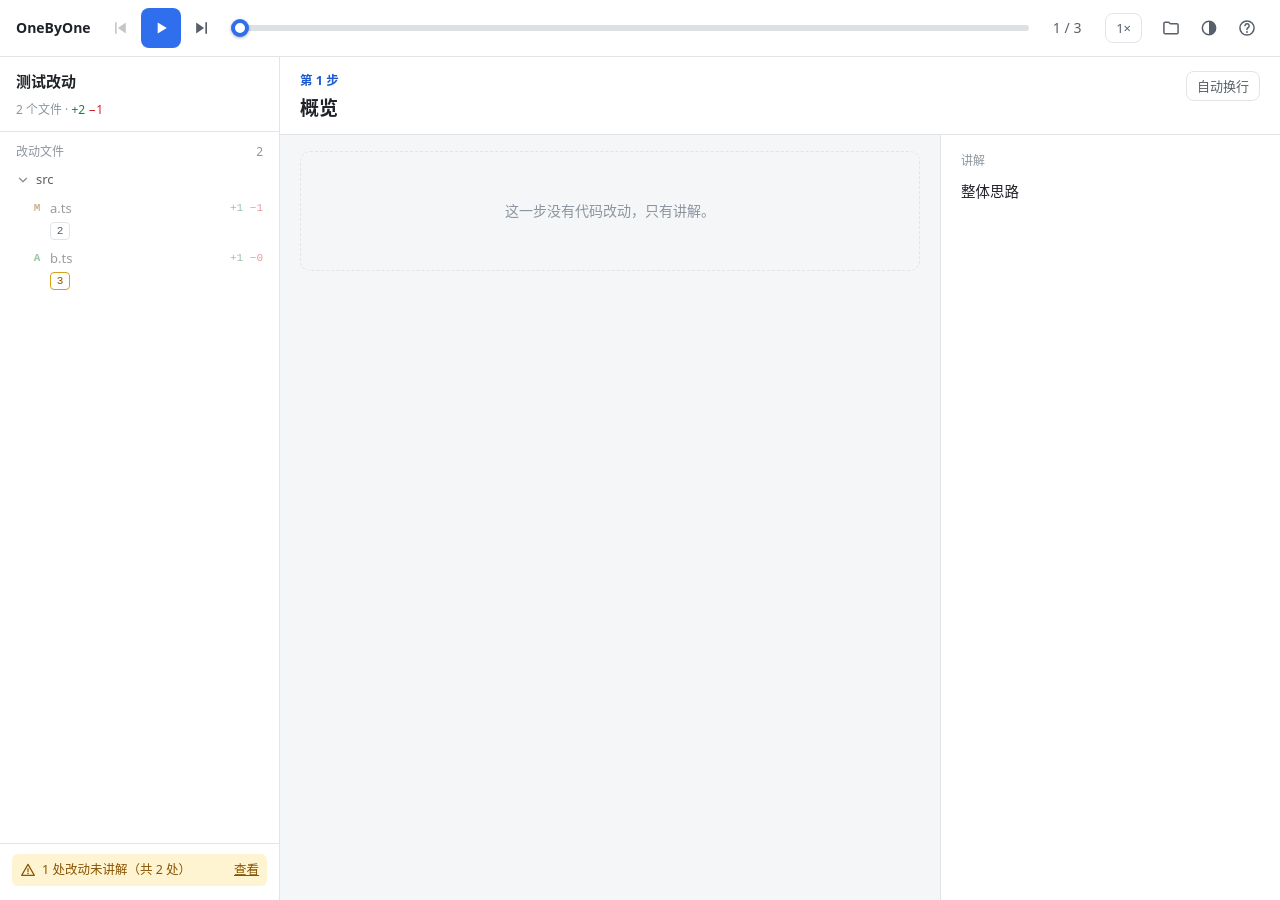
it: App › 加载数据后可以用按钮和键盘逐步切换
Expected: the heading "概览" is shown, x1=300 y1=95 x2=338 y2=121
Expected: the text "1 / 3" is shown, x1=1053 y1=18 x2=1081 y2=37
Step 1. Click the button named "下一步" → (202, 28), box x1=185 y1=11 x2=219 y2=45
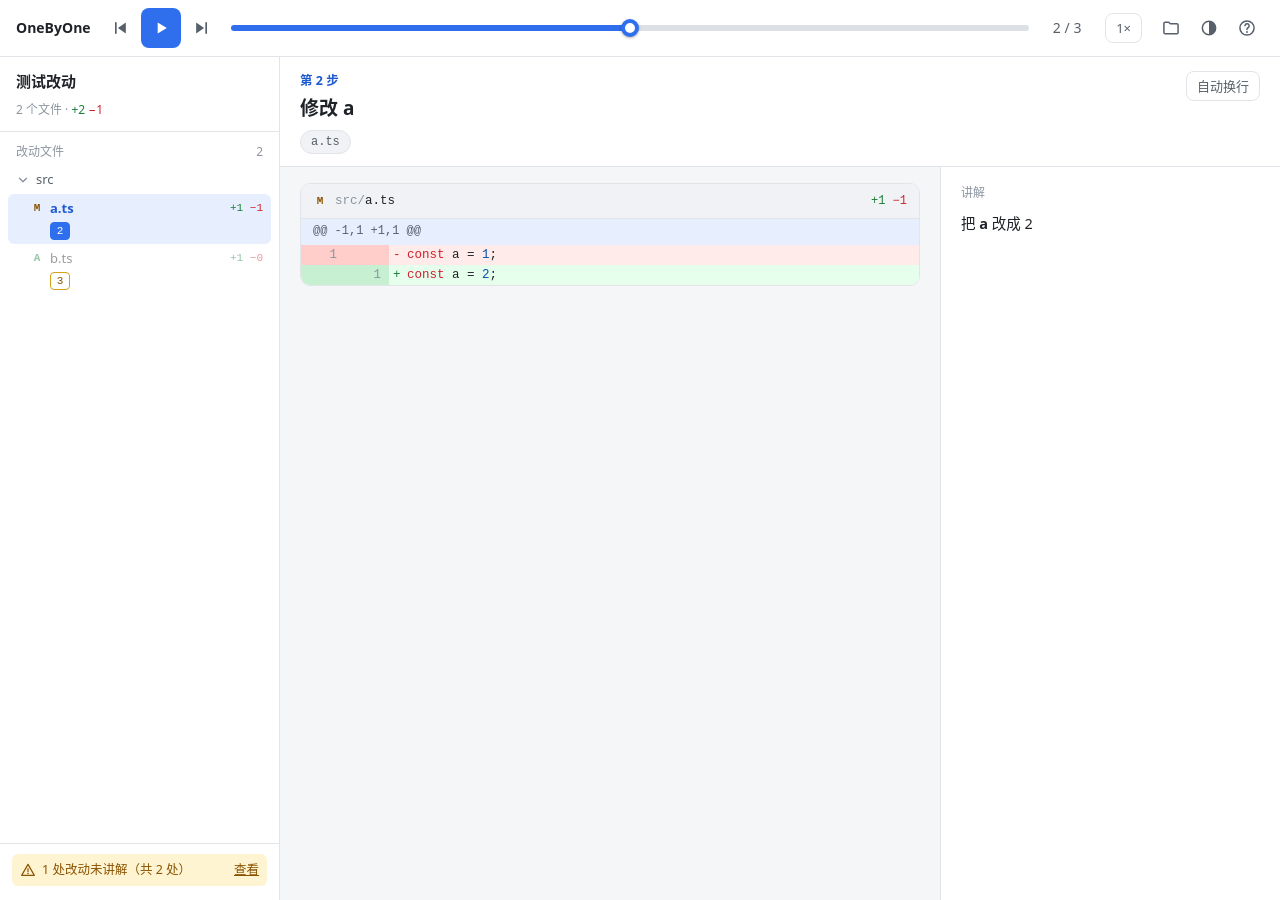
Expected: the number of elements "讲解" is 1, x1=940 y1=167 x2=1279 y2=899
Expected: the heading "修改 a" is shown, x1=300 y1=95 x2=354 y2=121
Expected: the text "这一步没有代码改动，只有讲解。" is gone
// 第三步是自动补上的「未讲解的改动」
Step 2. Press ArrowRight
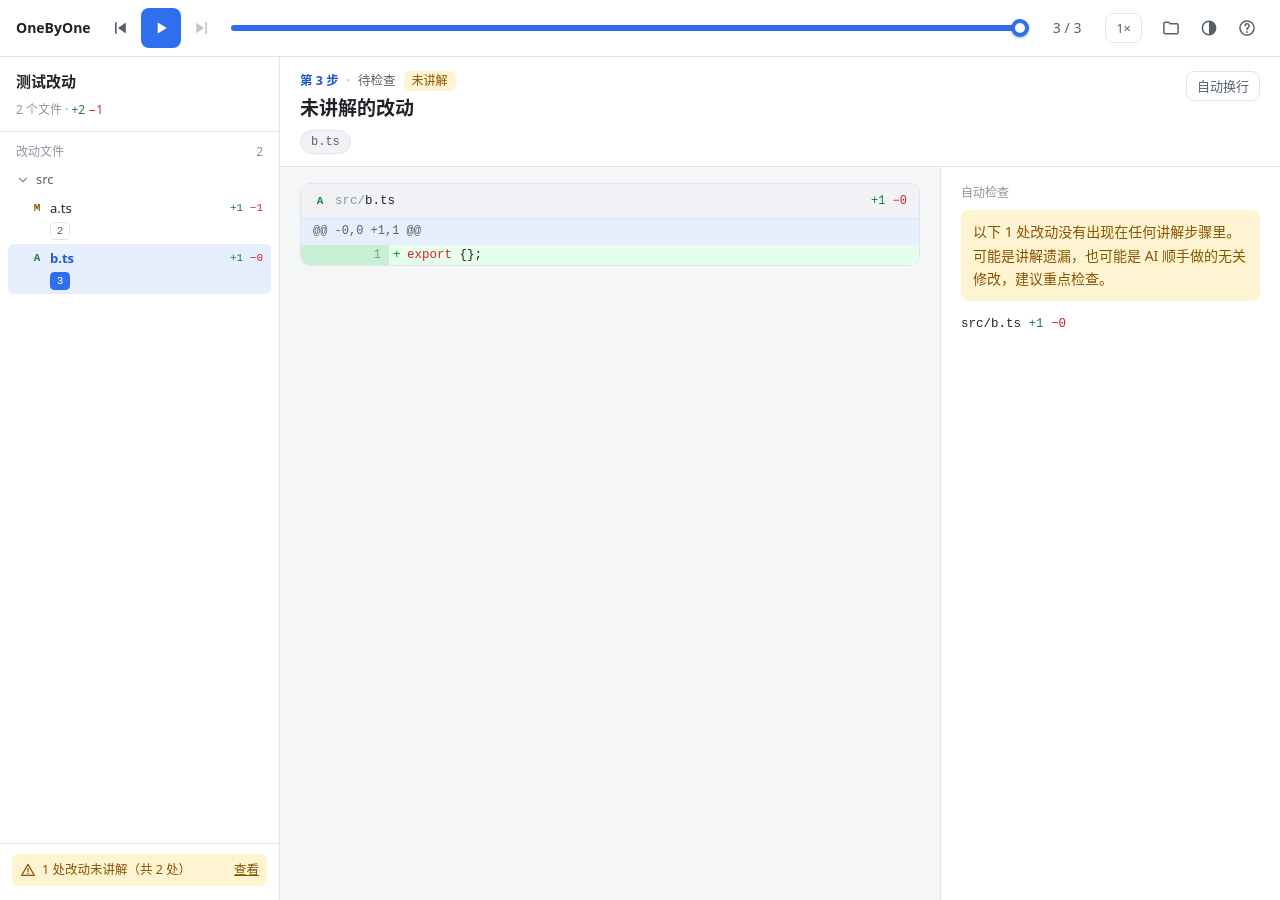
Expected: the text "1 处改动未讲解（共 2 处）" is shown, x1=42 y1=860 x2=191 y2=880
Expected: the heading "未讲解的改动" is shown, x1=300 y1=95 x2=414 y2=121
Step 3. Press Home
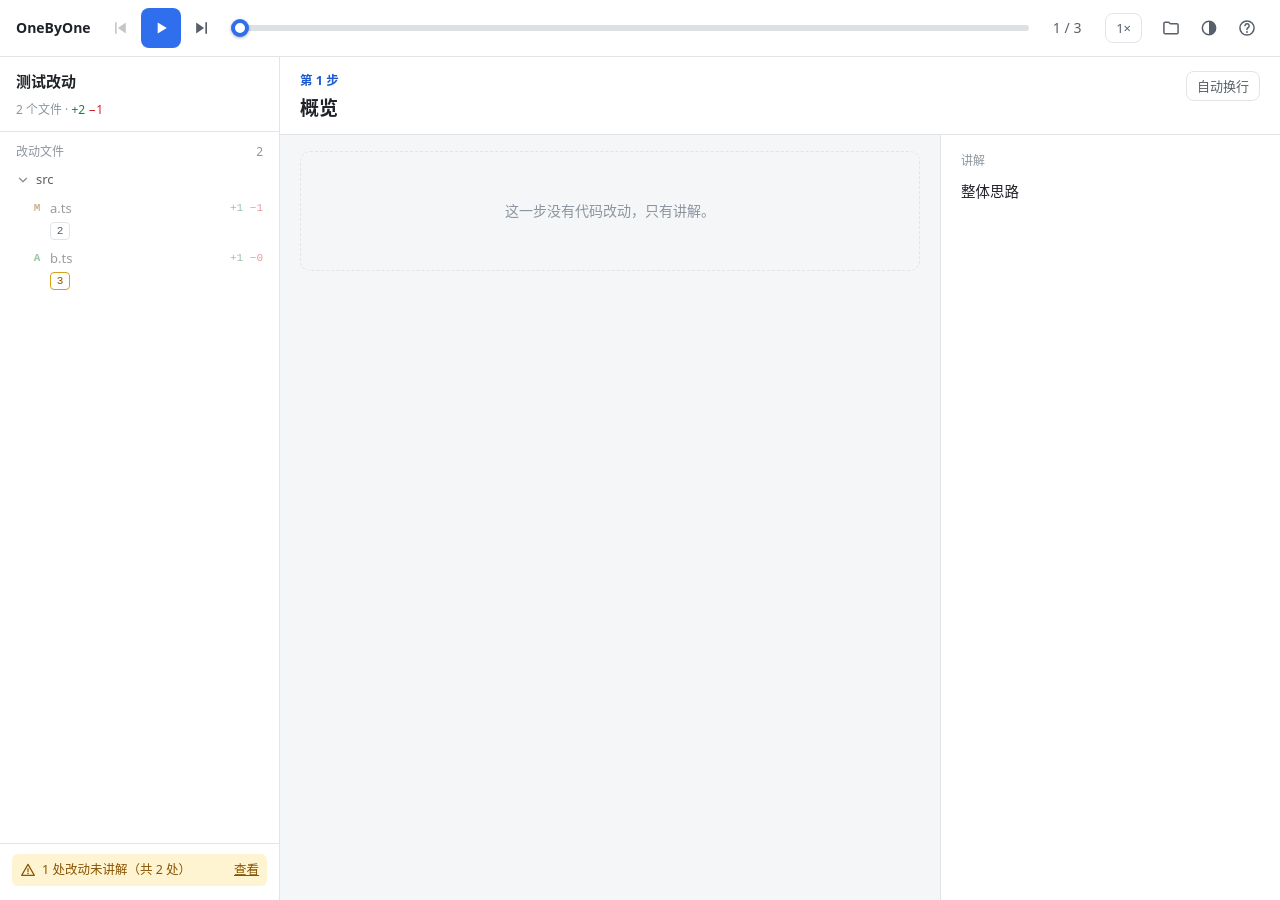
Expected: the heading "概览" is shown, x1=300 y1=95 x2=338 y2=121
